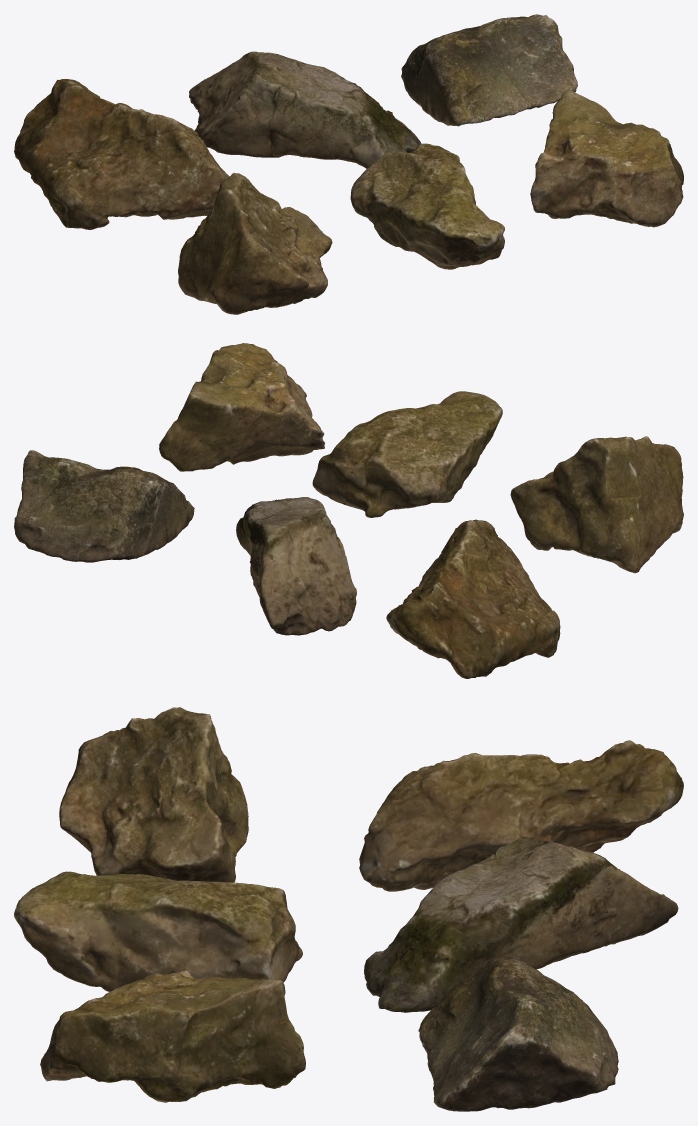
File: mossrock1.glb
3 views of the same model, one above another, from view 1: azimuth 30°, elevation 25°; view 2: azimuth 150°, elevation 25°; view 3: azimuth 270°, elevation 25° (orthographic). The views are drawn at different scales.
Parts seen in each view (by area): view 1: rock_moss_set_01_rock01; view 2: rock_moss_set_01_rock01; view 3: rock_moss_set_01_rock01.
Part boxes in pixels (bbox=[...]): rock_moss_set_01_rock01: bbox=[14, 14, 683, 314]; rock_moss_set_01_rock01: bbox=[14, 343, 683, 678]; rock_moss_set_01_rock01: bbox=[14, 707, 683, 1111].
Size of the model in its own units: 8 by 1.77 by 6.95.
1 material, 1 textured.
